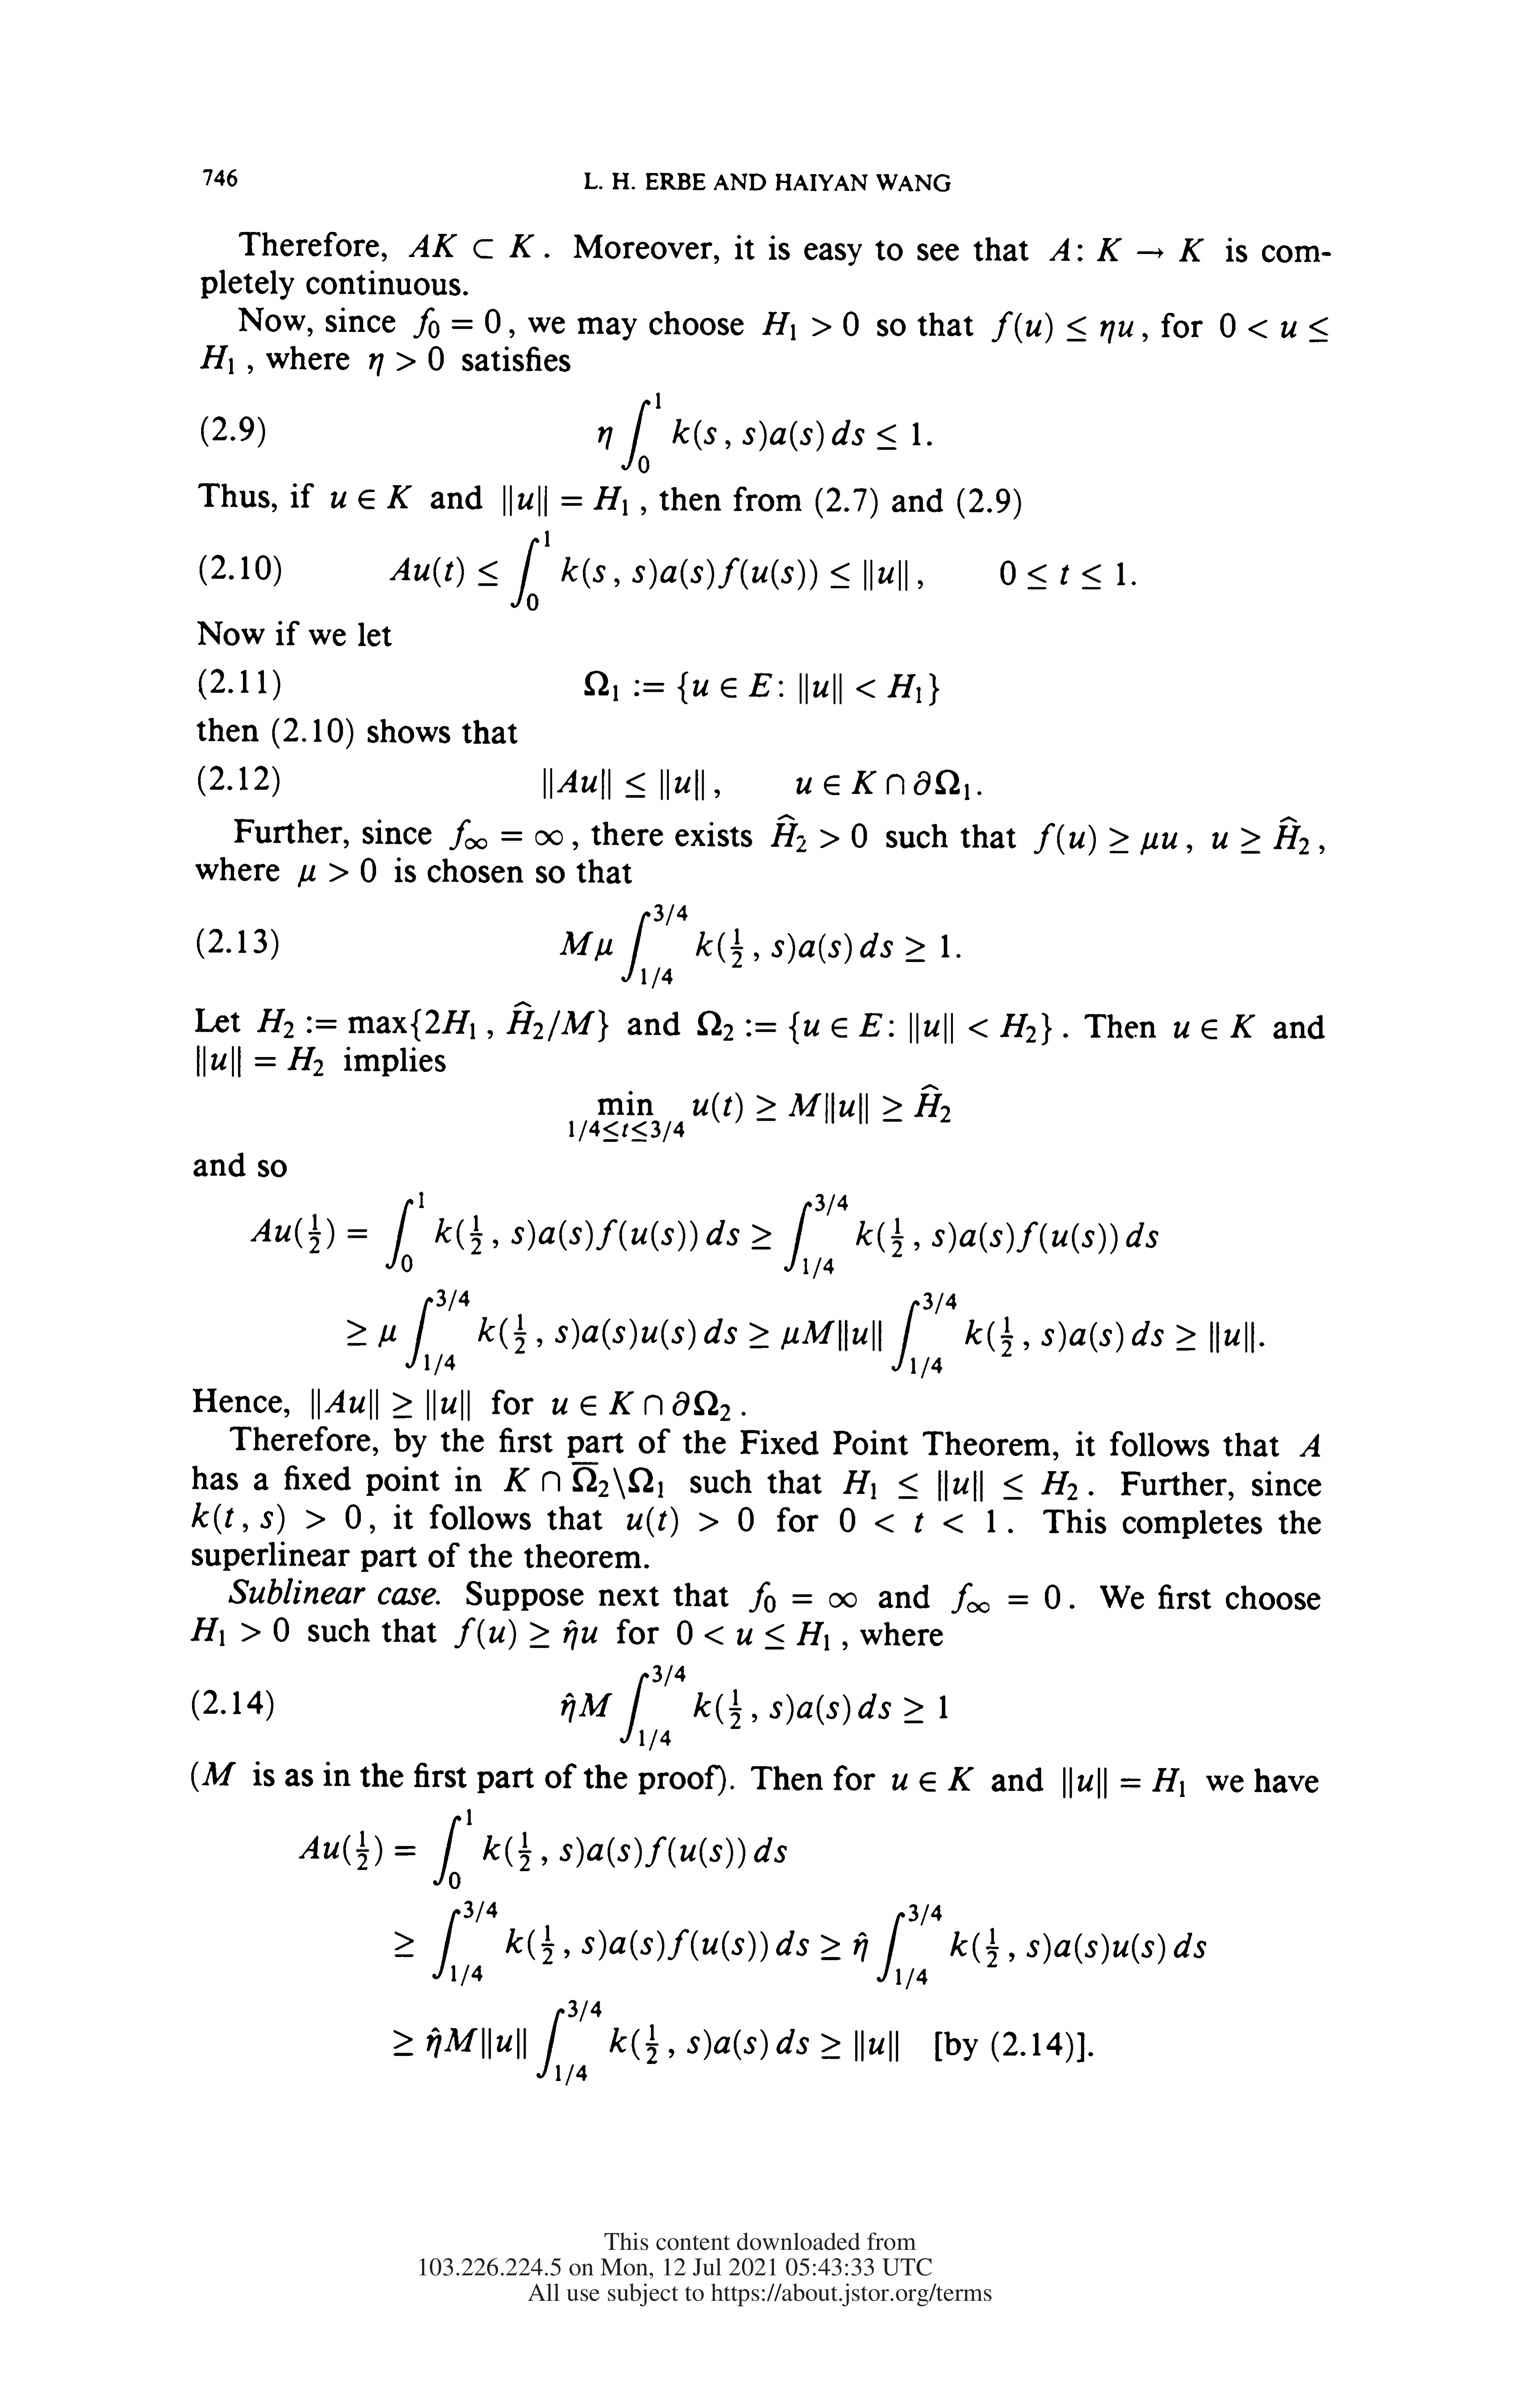maths: (347, 1290, 1253, 1378), (294, 1192, 1158, 1279), (394, 1902, 1206, 1989), (394, 2000, 897, 2086), (433, 531, 908, 610), (343, 1809, 787, 1889), (561, 1665, 948, 1751), (559, 904, 950, 988), (598, 393, 920, 473), (569, 1083, 950, 1143), (258, 1001, 608, 1041), (697, 1011, 1051, 1045), (634, 671, 939, 705), (843, 1470, 1078, 1502), (503, 1462, 662, 1498), (191, 1502, 361, 1535), (543, 768, 703, 801), (552, 1392, 729, 1421), (1034, 822, 1192, 855), (312, 1388, 470, 1421), (797, 769, 969, 799), (992, 310, 1132, 343), (676, 1621, 829, 1651), (454, 1618, 598, 1649), (196, 1045, 322, 1078), (839, 1507, 995, 1533), (503, 485, 627, 517), (1064, 1767, 1185, 1798), (627, 1507, 753, 1537), (771, 813, 867, 852), (449, 818, 562, 850), (1213, 817, 1309, 853), (1050, 238, 1204, 261), (1001, 561, 1125, 589), (748, 1581, 857, 1612), (952, 1583, 1060, 1614), (408, 233, 534, 258), (1220, 314, 1328, 342), (191, 1618, 289, 1646), (414, 307, 499, 338), (762, 312, 859, 340), (370, 345, 443, 377), (298, 857, 375, 887), (892, 1767, 974, 1791), (1174, 1015, 1255, 1039), (331, 485, 412, 508), (584, 671, 619, 701), (200, 345, 233, 373), (389, 557, 429, 580), (202, 1761, 237, 1786), (1300, 1434, 1319, 1456)
